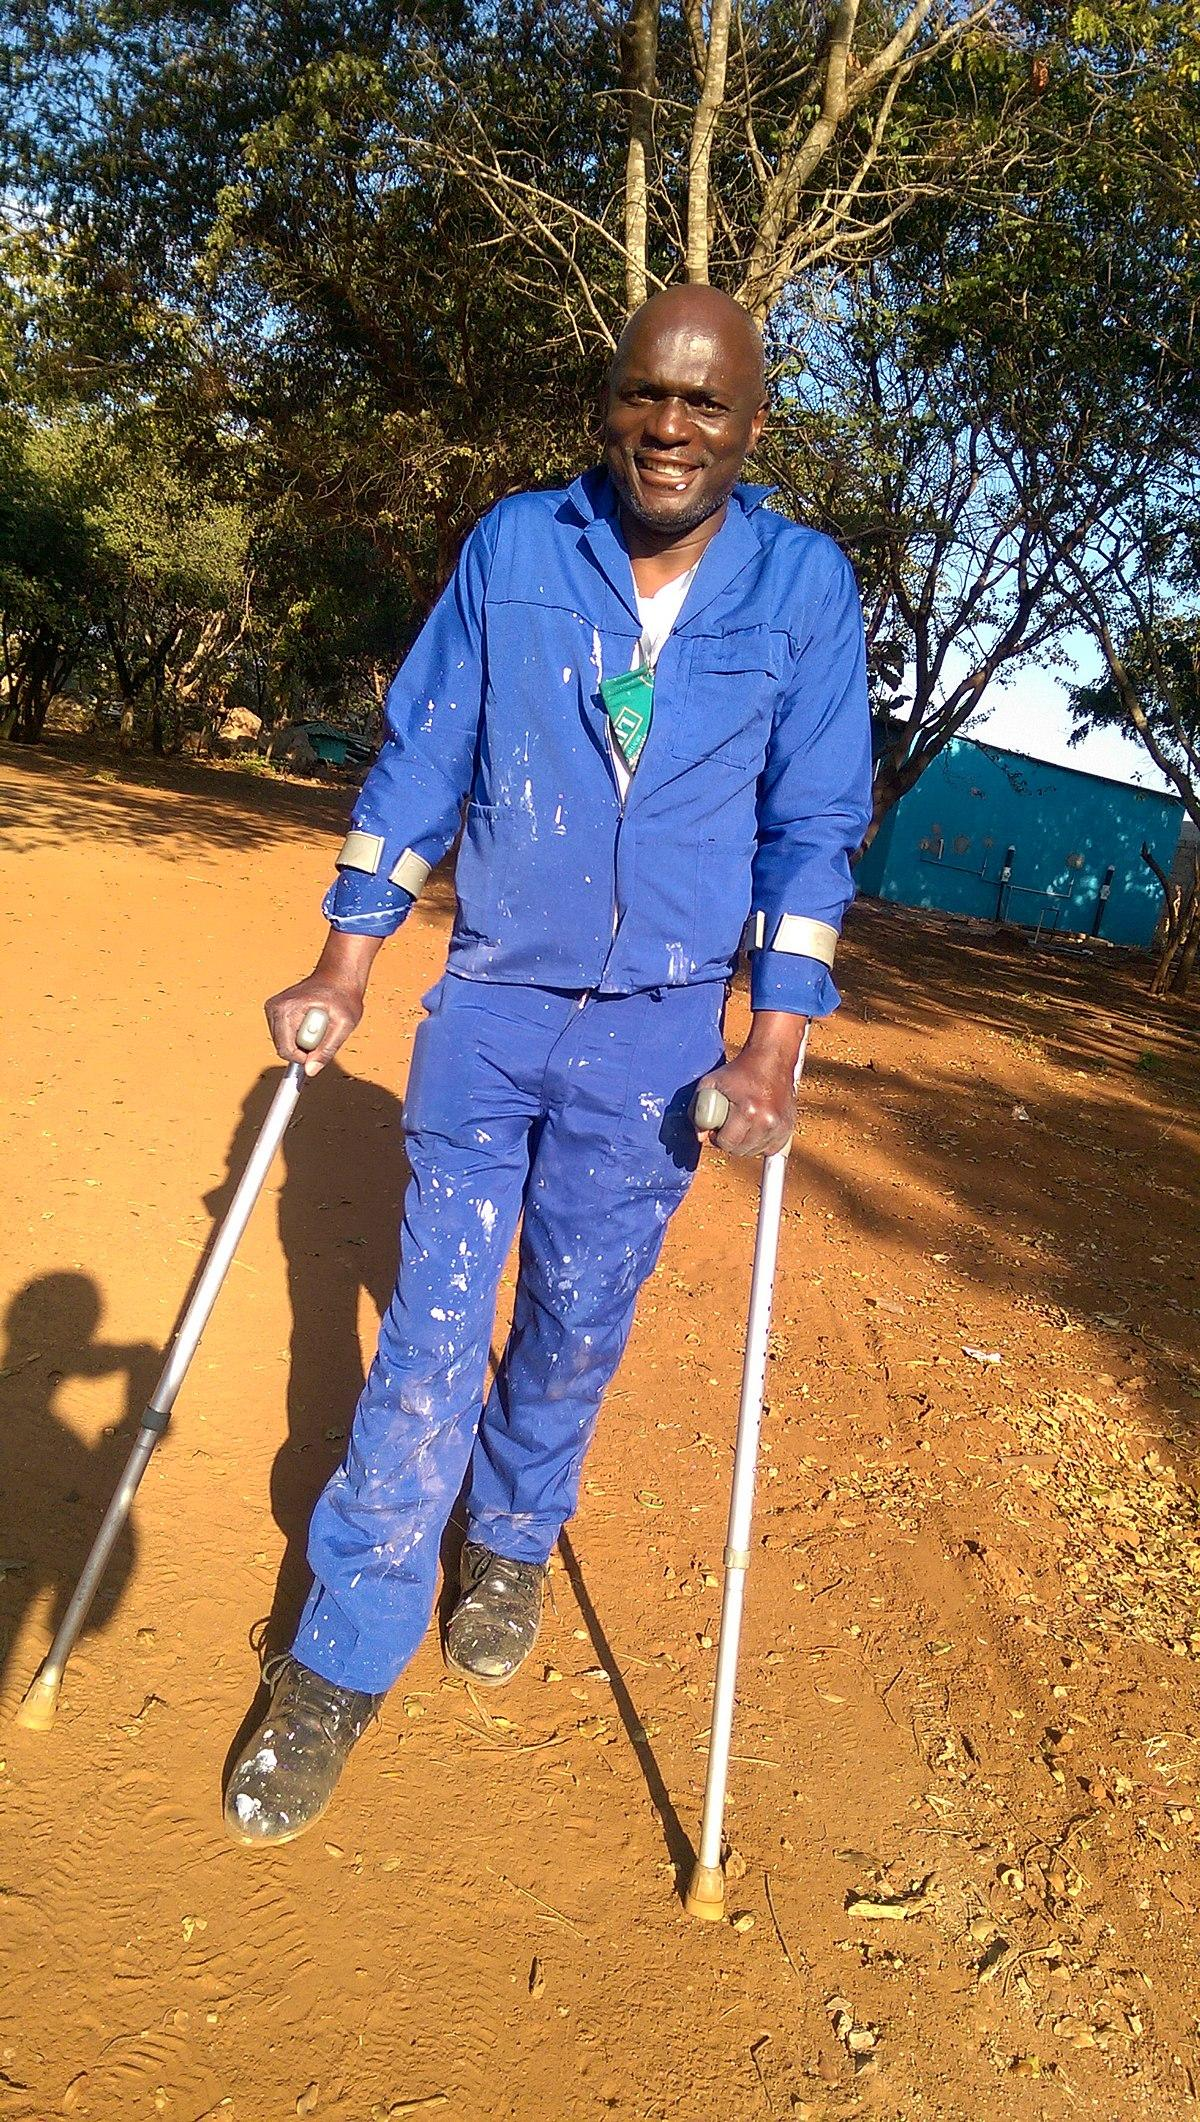crutches: (12, 284, 872, 1921)
